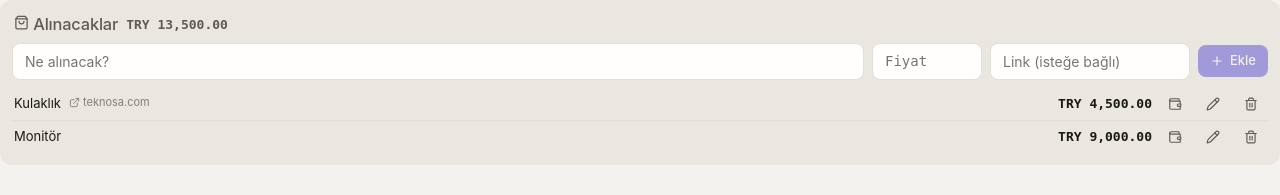
Test case: editing an item › edits one row at a time
Step 1. Click the button "Kulaklık" → click(38, 104), box [14, 94, 61, 113]
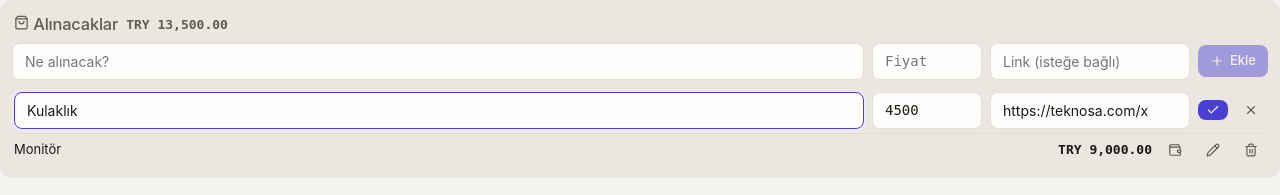
Step 2. Click the button "Monitör" → click(38, 150), box [14, 140, 61, 159]
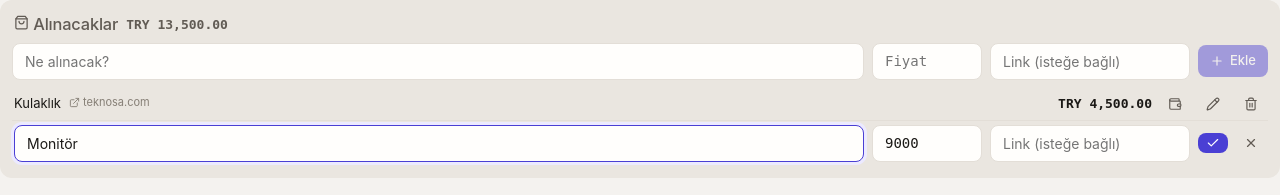
Expected: the button "Kulaklık" is shown, [14, 94, 61, 113]
Expected: the field named "Ne alınacak" holds "Monitör", [14, 125, 864, 162]
